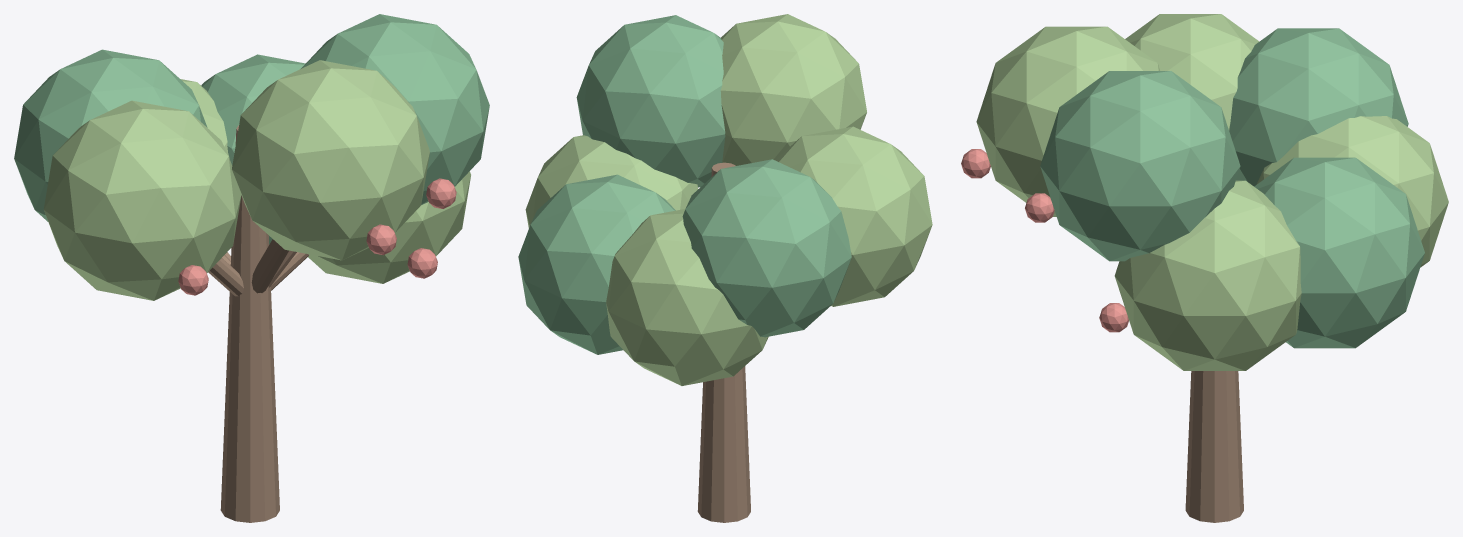
File: apple_tree.glb
3 views of the same model, side by side, from view 1: azimuth 30°, elevation 25°; view 2: azimuth 150°, elevation 25°; view 3: azimuth 270°, elevation 25° (orthographic). The views are drawn at different scales.
Parts seen in each view (by area): view 1: apple_tree_008, apple_tree_014, apple_tree_017, apple_tree_000, apple_tree_005, apple_tree_002, apple_tree_011, apple_tree_007, apple_tree_020, apple_tree_015, apple_tree_003, apple_tree_018 (+2 smaller); view 2: apple_tree_005, apple_tree_017, apple_tree_020, apple_tree_008, apple_tree_011, apple_tree_014, apple_tree_000, apple_tree_002; view 3: apple_tree_017, apple_tree_002, apple_tree_011, apple_tree_005, apple_tree_008, apple_tree_020, apple_tree_000, apple_tree_014, apple_tree_003, apple_tree_018, apple_tree_009.
Part boxes in pixels (x1,y1,x2,y2): apple_tree_008: (232,60,429,260); apple_tree_014: (43,100,241,300); apple_tree_017: (301,14,489,204); apple_tree_000: (220,125,279,522); apple_tree_005: (14,49,207,221); apple_tree_002: (308,171,470,283); apple_tree_011: (201,54,305,244); apple_tree_007: (251,239,288,293); apple_tree_020: (180,79,229,157); apple_tree_015: (178,265,208,295); apple_tree_003: (407,248,437,278); apple_tree_018: (426,178,456,208); apple_tree_005: (682,159,851,337); apple_tree_017: (576,15,725,187); apple_tree_020: (606,209,768,385); apple_tree_008: (720,14,866,165); apple_tree_011: (518,174,675,354); apple_tree_014: (775,126,932,306); apple_tree_000: (697,162,750,522); apple_tree_002: (525,135,697,228); apple_tree_017: (1040,71,1240,261); apple_tree_002: (1114,180,1301,370); apple_tree_011: (1254,157,1424,348); apple_tree_005: (1229,28,1408,186); apple_tree_008: (976,26,1159,216); apple_tree_020: (1256,116,1448,267); apple_tree_000: (1185,371,1243,522); apple_tree_014: (1125,14,1259,130); apple_tree_003: (1099,303,1128,332); apple_tree_018: (1025,193,1054,222); apple_tree_009: (961,149,990,178).
Bounding box in the file's own units: 3.02 × 3.47 × 3.17.
